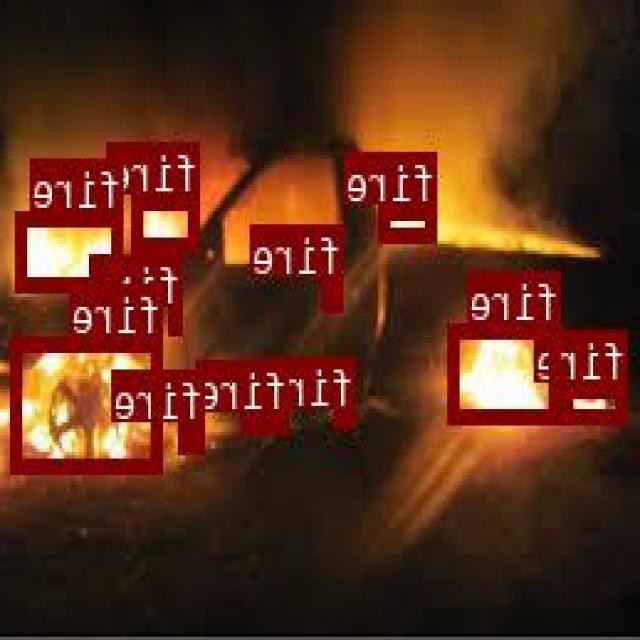fire: (13, 336, 164, 472), (451, 323, 561, 422), (18, 210, 124, 288), (135, 194, 202, 249), (564, 380, 628, 420), (382, 202, 438, 240), (245, 410, 291, 431), (180, 419, 206, 451), (324, 277, 346, 307), (171, 306, 185, 331), (338, 406, 358, 423)
